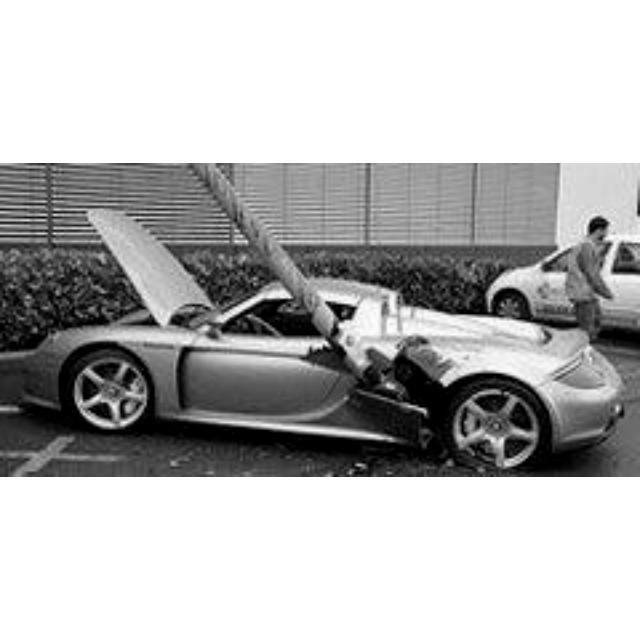doorouter-dent: (179, 342, 339, 430)
quaterpanel-dent: (360, 329, 466, 446)
